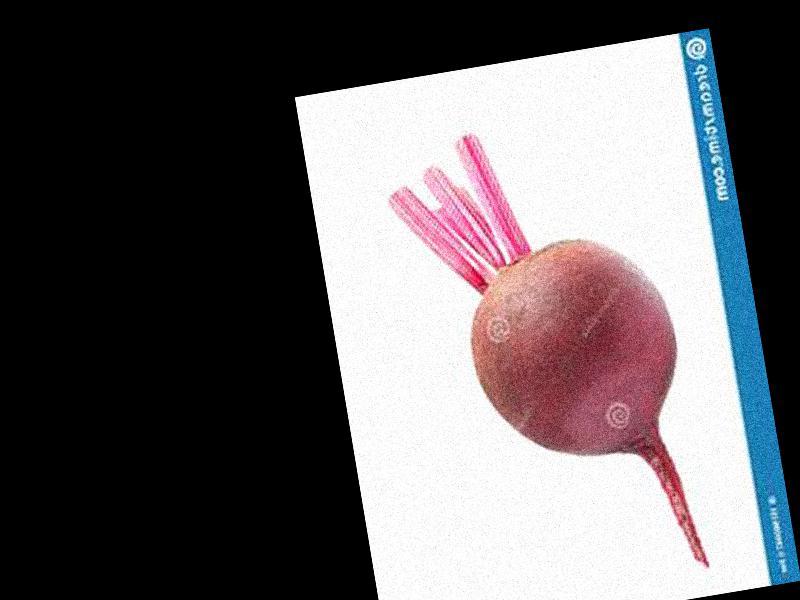Beet: (382, 109, 709, 600)
